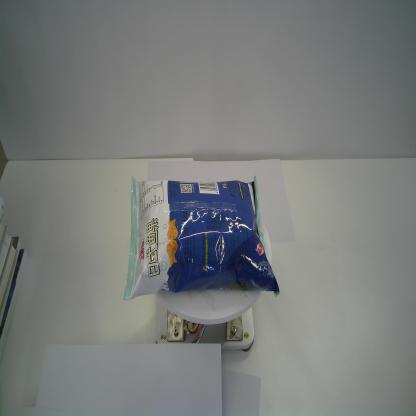Puffed Food: (123, 175, 280, 301)
